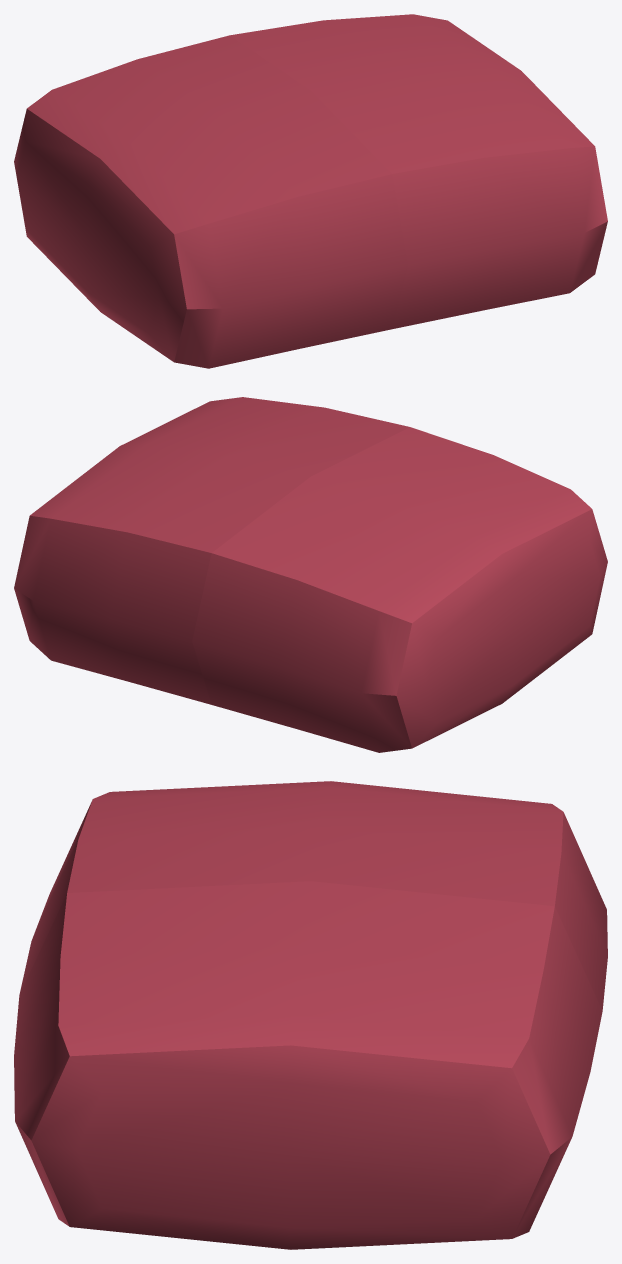
File: flour_bag_01.fbx
3 renders of one model, top to bottom at view 1: azimuth 30°, elevation 25°; view 2: azimuth 150°, elevation 25°; view 3: azimuth 270°, elevation 25°, orthographic. The views are drawn at different scales.
Parts seen in each view (by area): view 1: flour_bags1; view 2: flour_bags1; view 3: flour_bags1.
Boxes of the visible parts, <box> form: flour_bags1: <box>14,14,607,368</box>; flour_bags1: <box>14,397,607,752</box>; flour_bags1: <box>14,781,607,1249</box>.
Size of the model in its own units: 0.7772 by 0.3096 by 0.6695.
